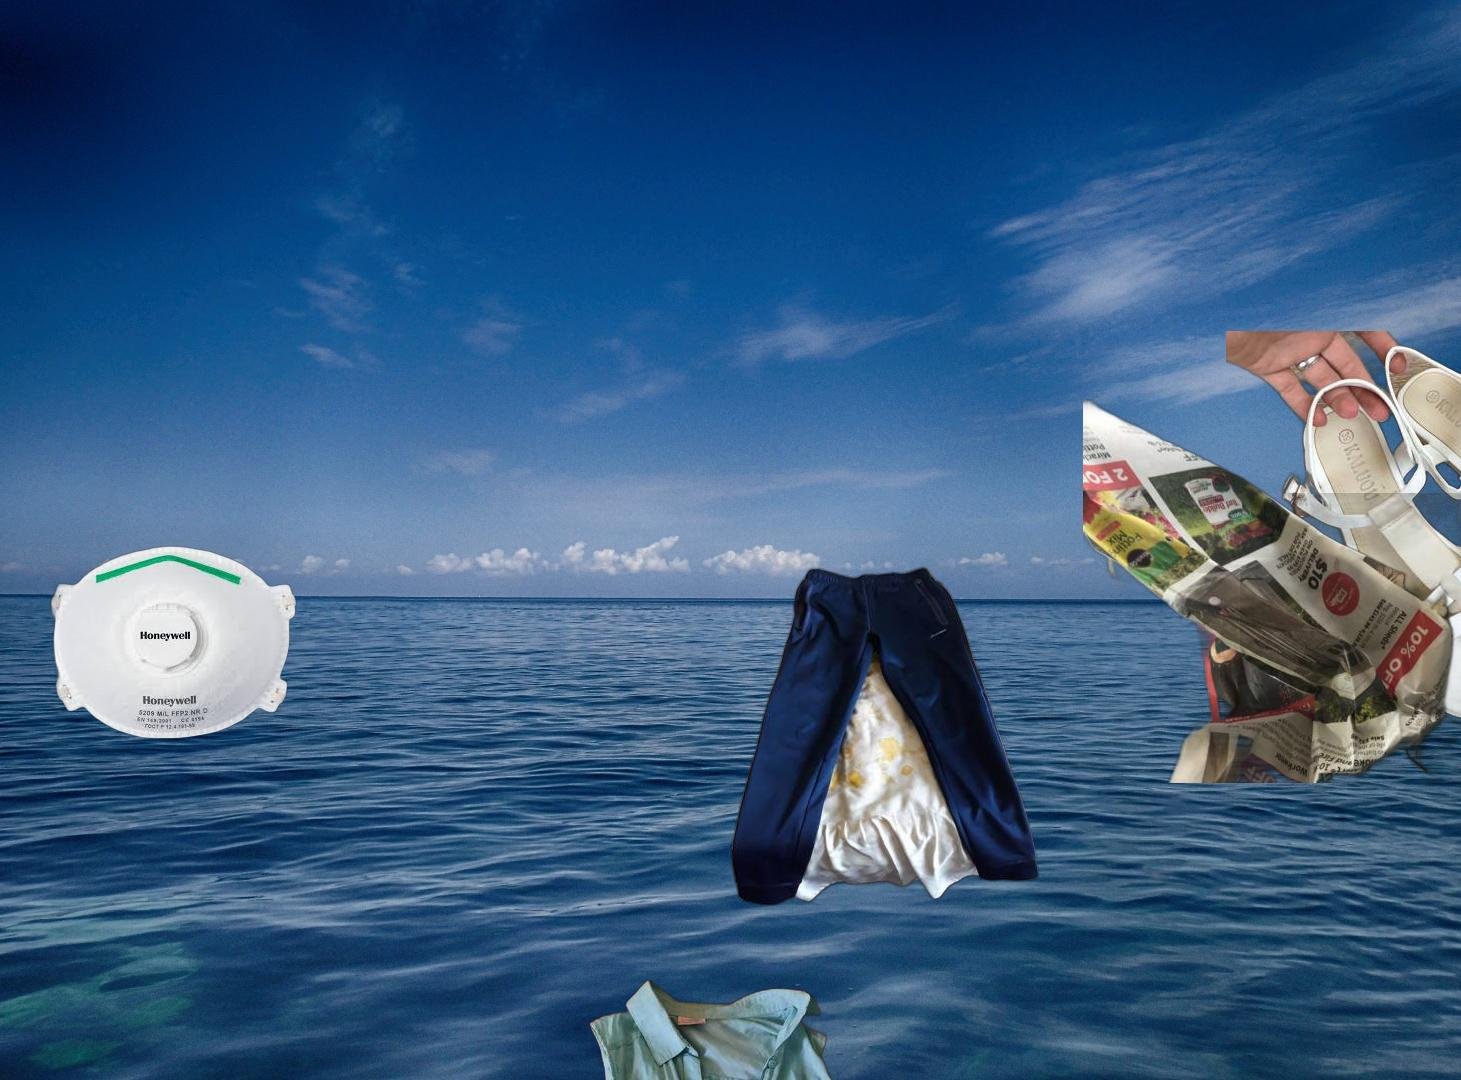biological: (1240, 493, 1461, 787)
clothes: (729, 563, 1043, 910), (1226, 331, 1461, 725), (512, 975, 895, 1080)
paper: (1083, 399, 1461, 783)
trash: (47, 543, 299, 741)
